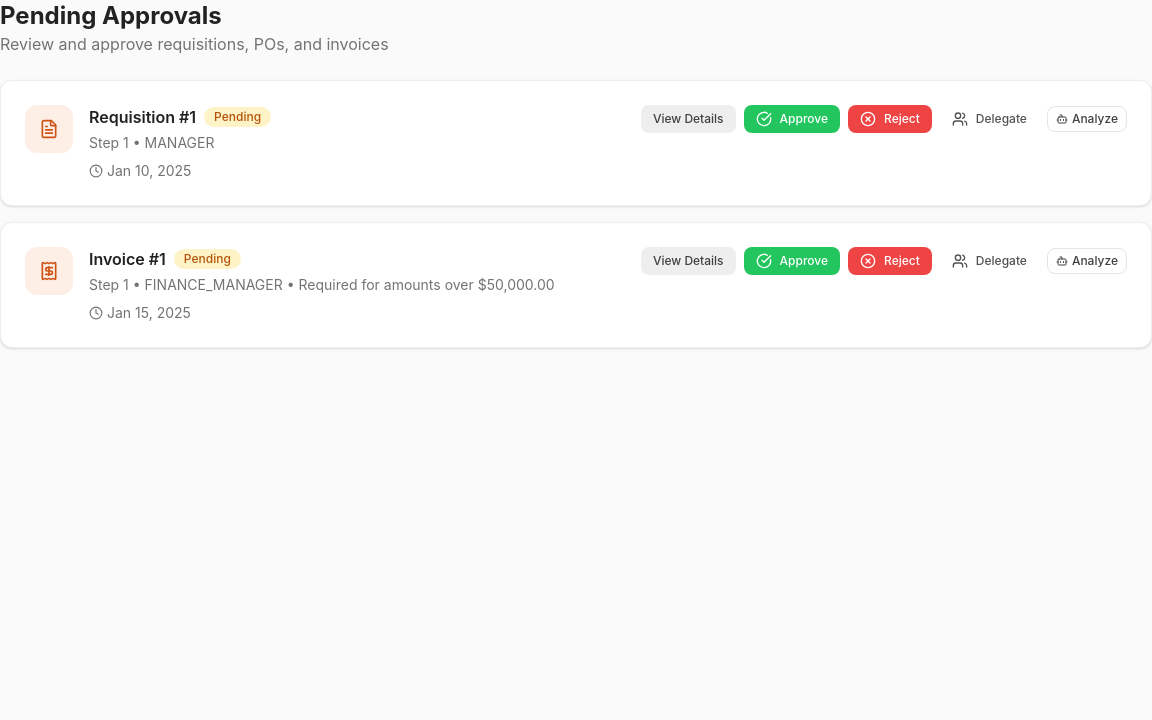
ApprovalsView › opens reject modal when reject button is clicked
Step 1. Click the 1st button "Reject" → (890, 119), box [848,105,932,133]
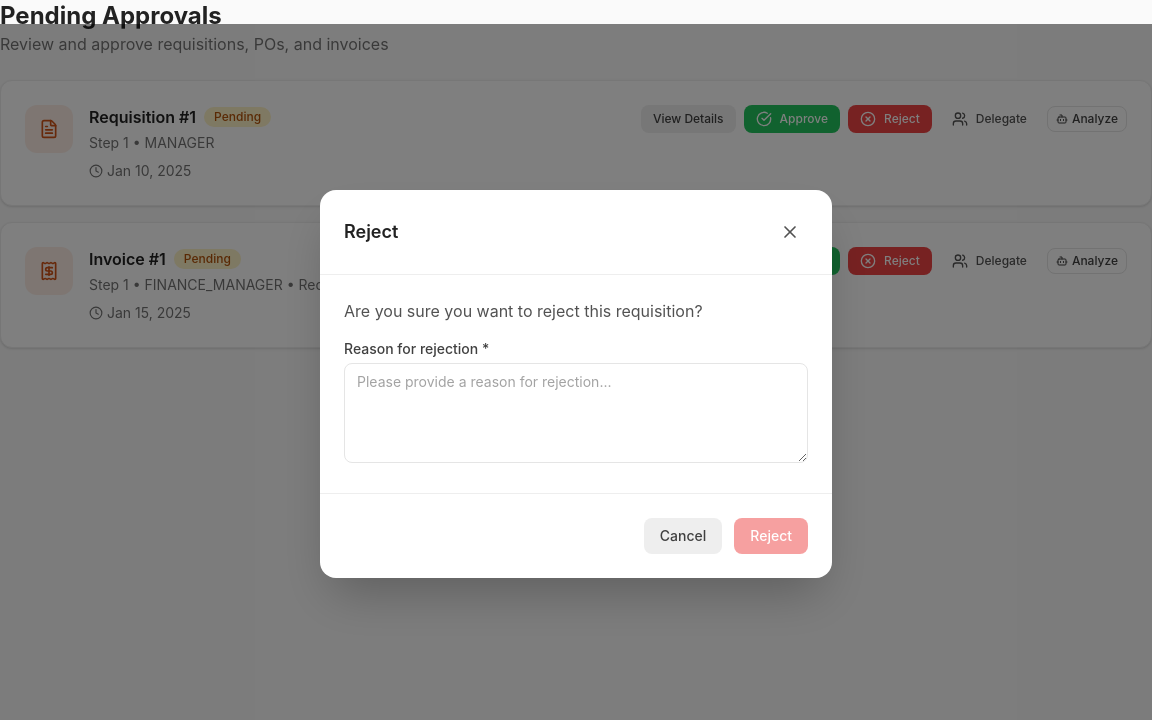
expect the text "Are you sure you want to reject this requisition?" is shown: met, box [344,301,703,321]
